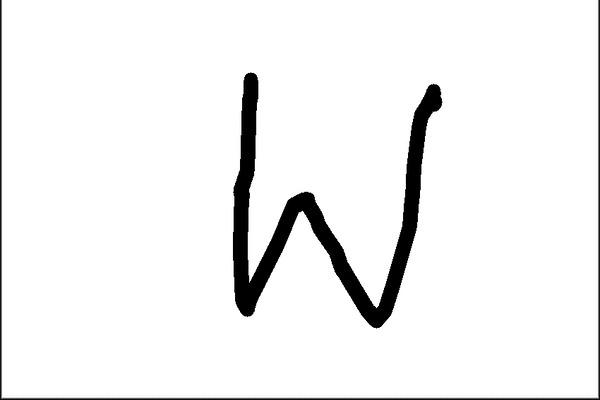w: (215, 48, 452, 352)
